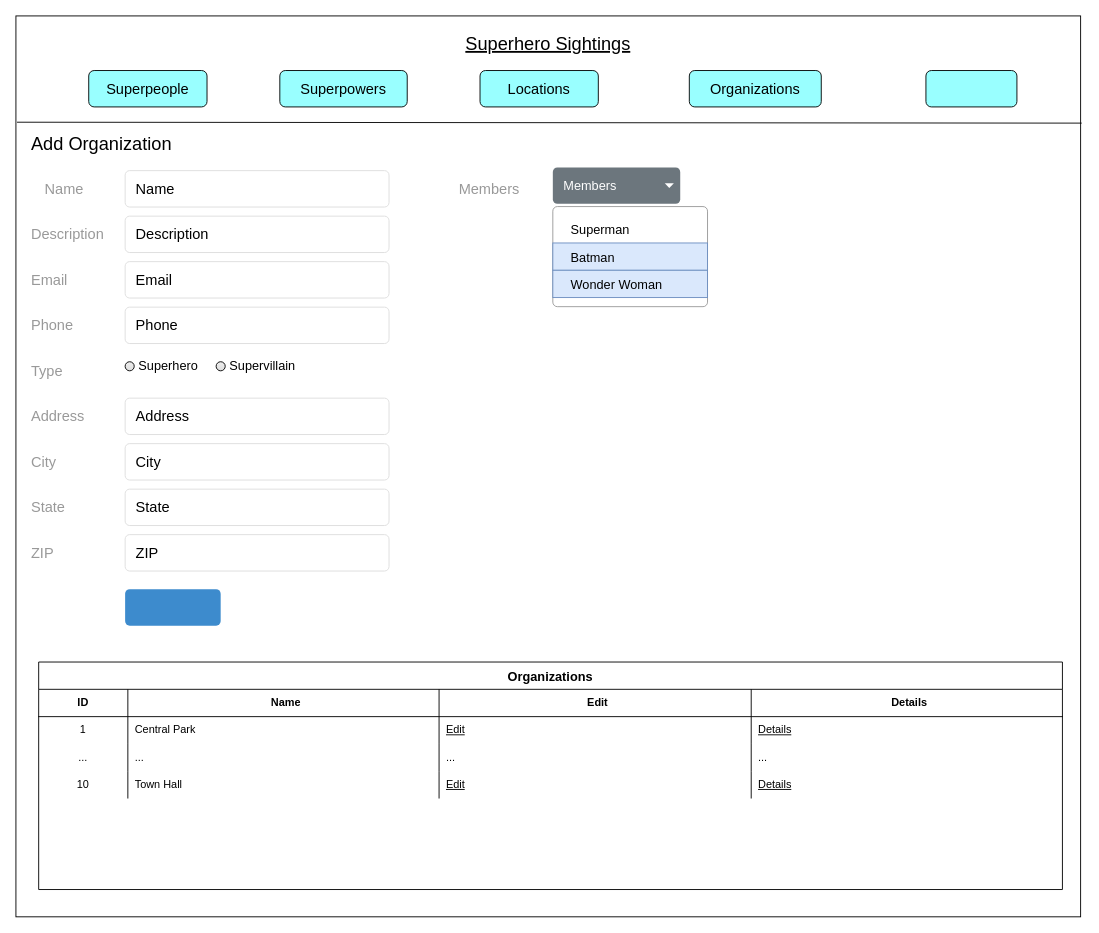
Some shapes in this 1099 by 933 pixel diagram are drawn without their labels. Here are the shapes that lost their labels. From the top down, the centre of each, then its label:
At point 971,88: "Sightings".
At point 172,607: "Add".
